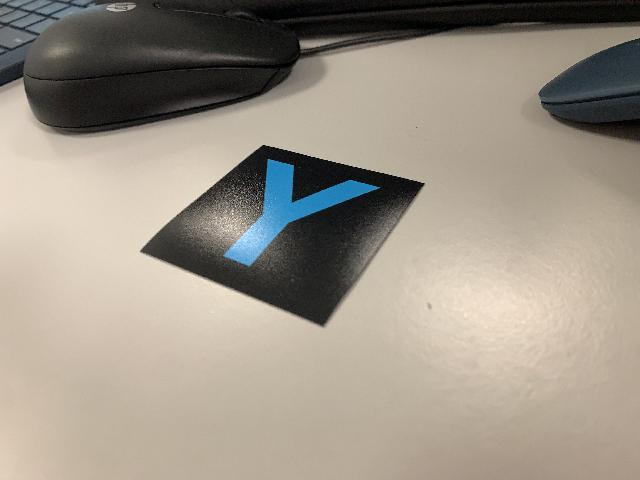alphabet_y: (137, 141, 428, 337)
